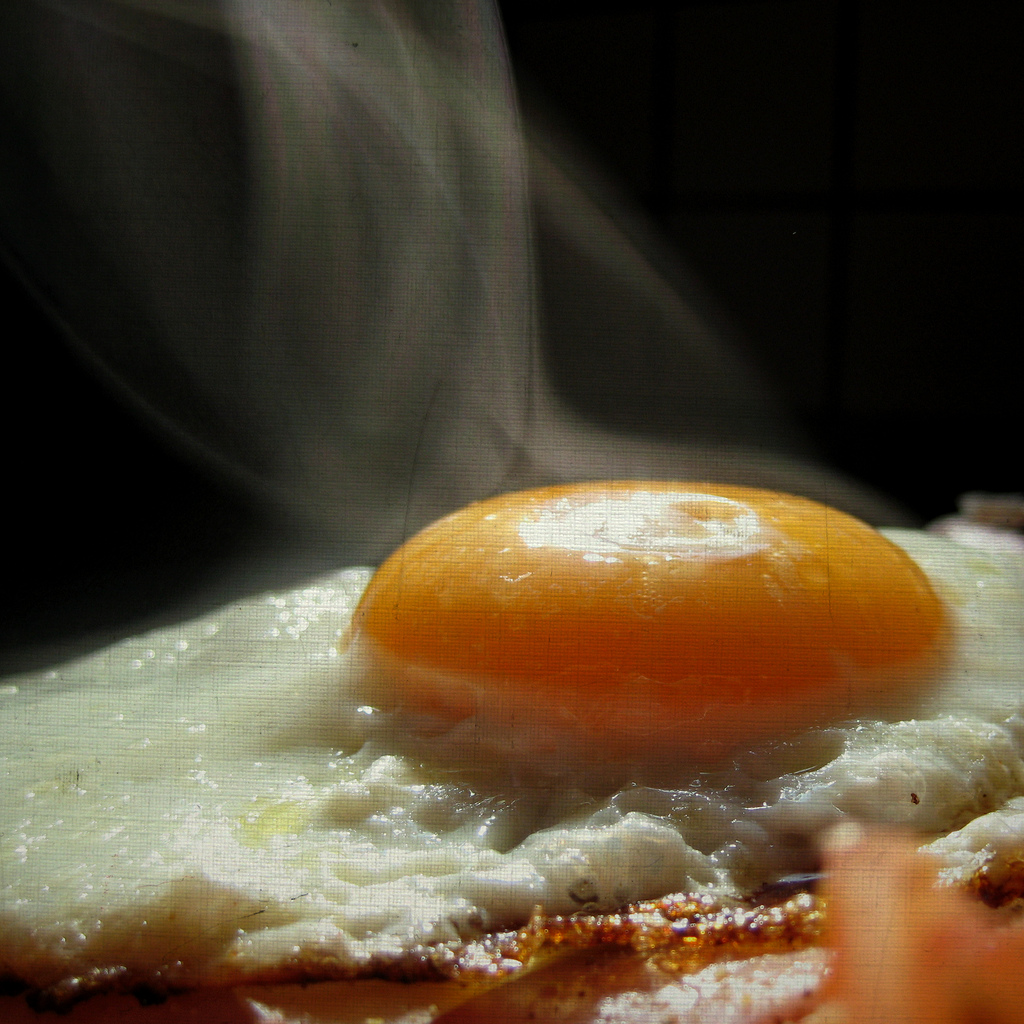fried egg: (22, 471, 1024, 950)
